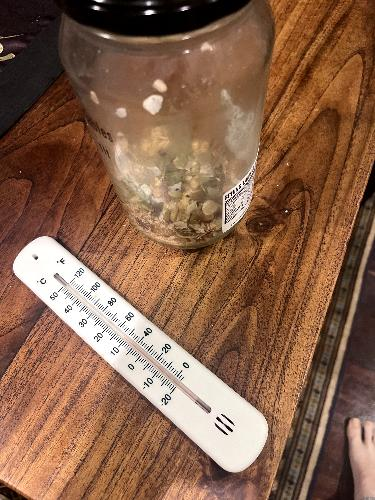thermo: (9, 216, 275, 473)
